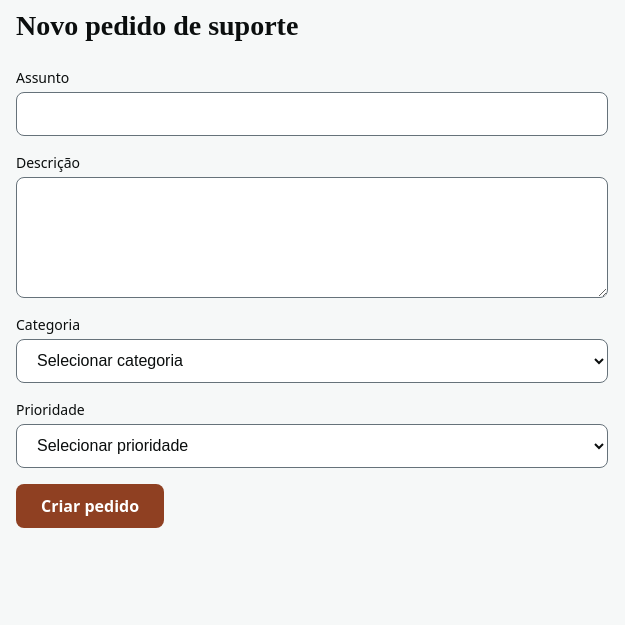
NewTicketPageComponent › shows the blocking priority warning only when "Bloqueante" is selected
Select "Alta" in the dropdown with id "ticket-priority". click: (312, 446)
box: left=16, top=424, right=608, bottom=468
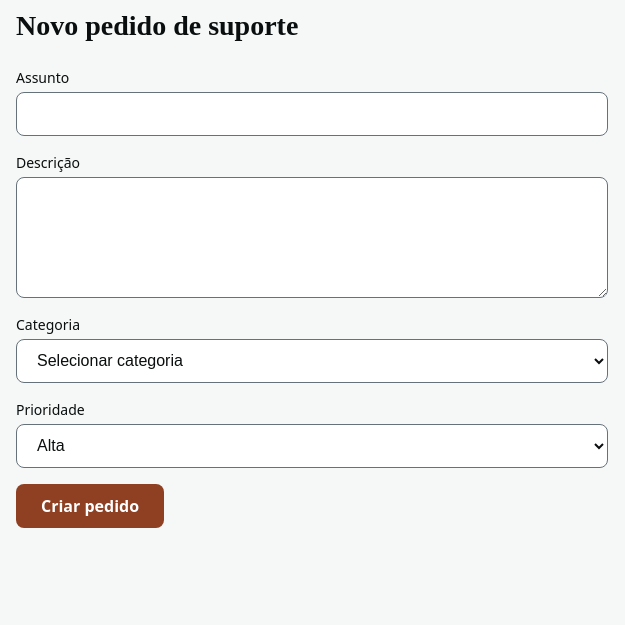
Expected: the text "impedir totalmente" is not shown
Select "Bloqueante" in the dropdown with id "ticket-priority". click: (312, 446)
box: left=16, top=424, right=608, bottom=468
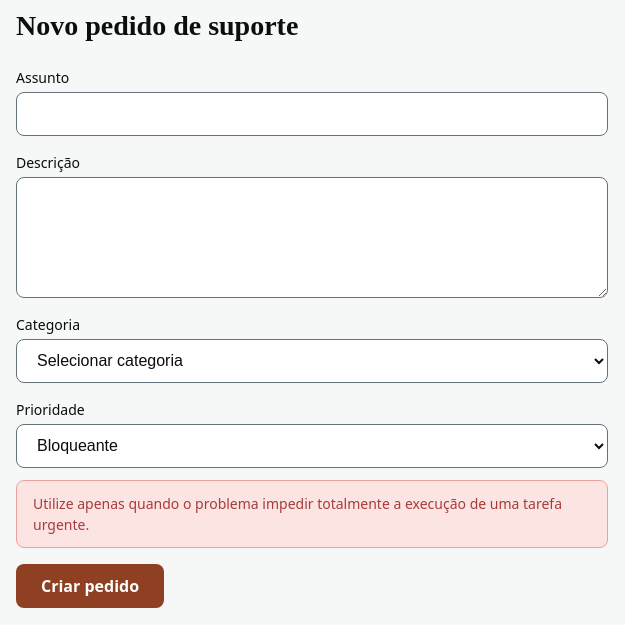
Now the text "impedir totalmente" is shown, box left=33, top=494, right=562, bottom=534
